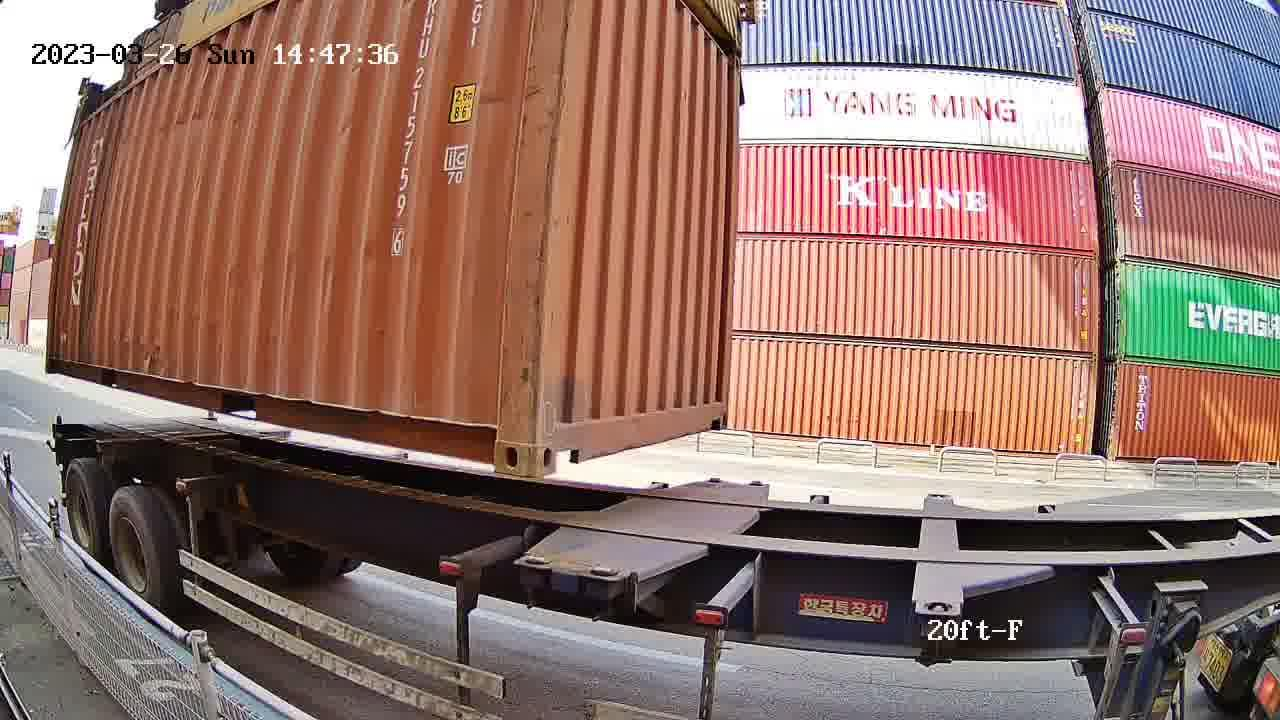Chassis: (518, 479, 726, 569), (585, 483, 766, 580)
Cone: (579, 566, 626, 628), (514, 555, 554, 614)
Hole_L: (533, 396, 592, 479)
Hole_R: (458, 393, 536, 479), (702, 389, 728, 430)
Tire: (105, 491, 161, 616), (63, 461, 101, 566)
